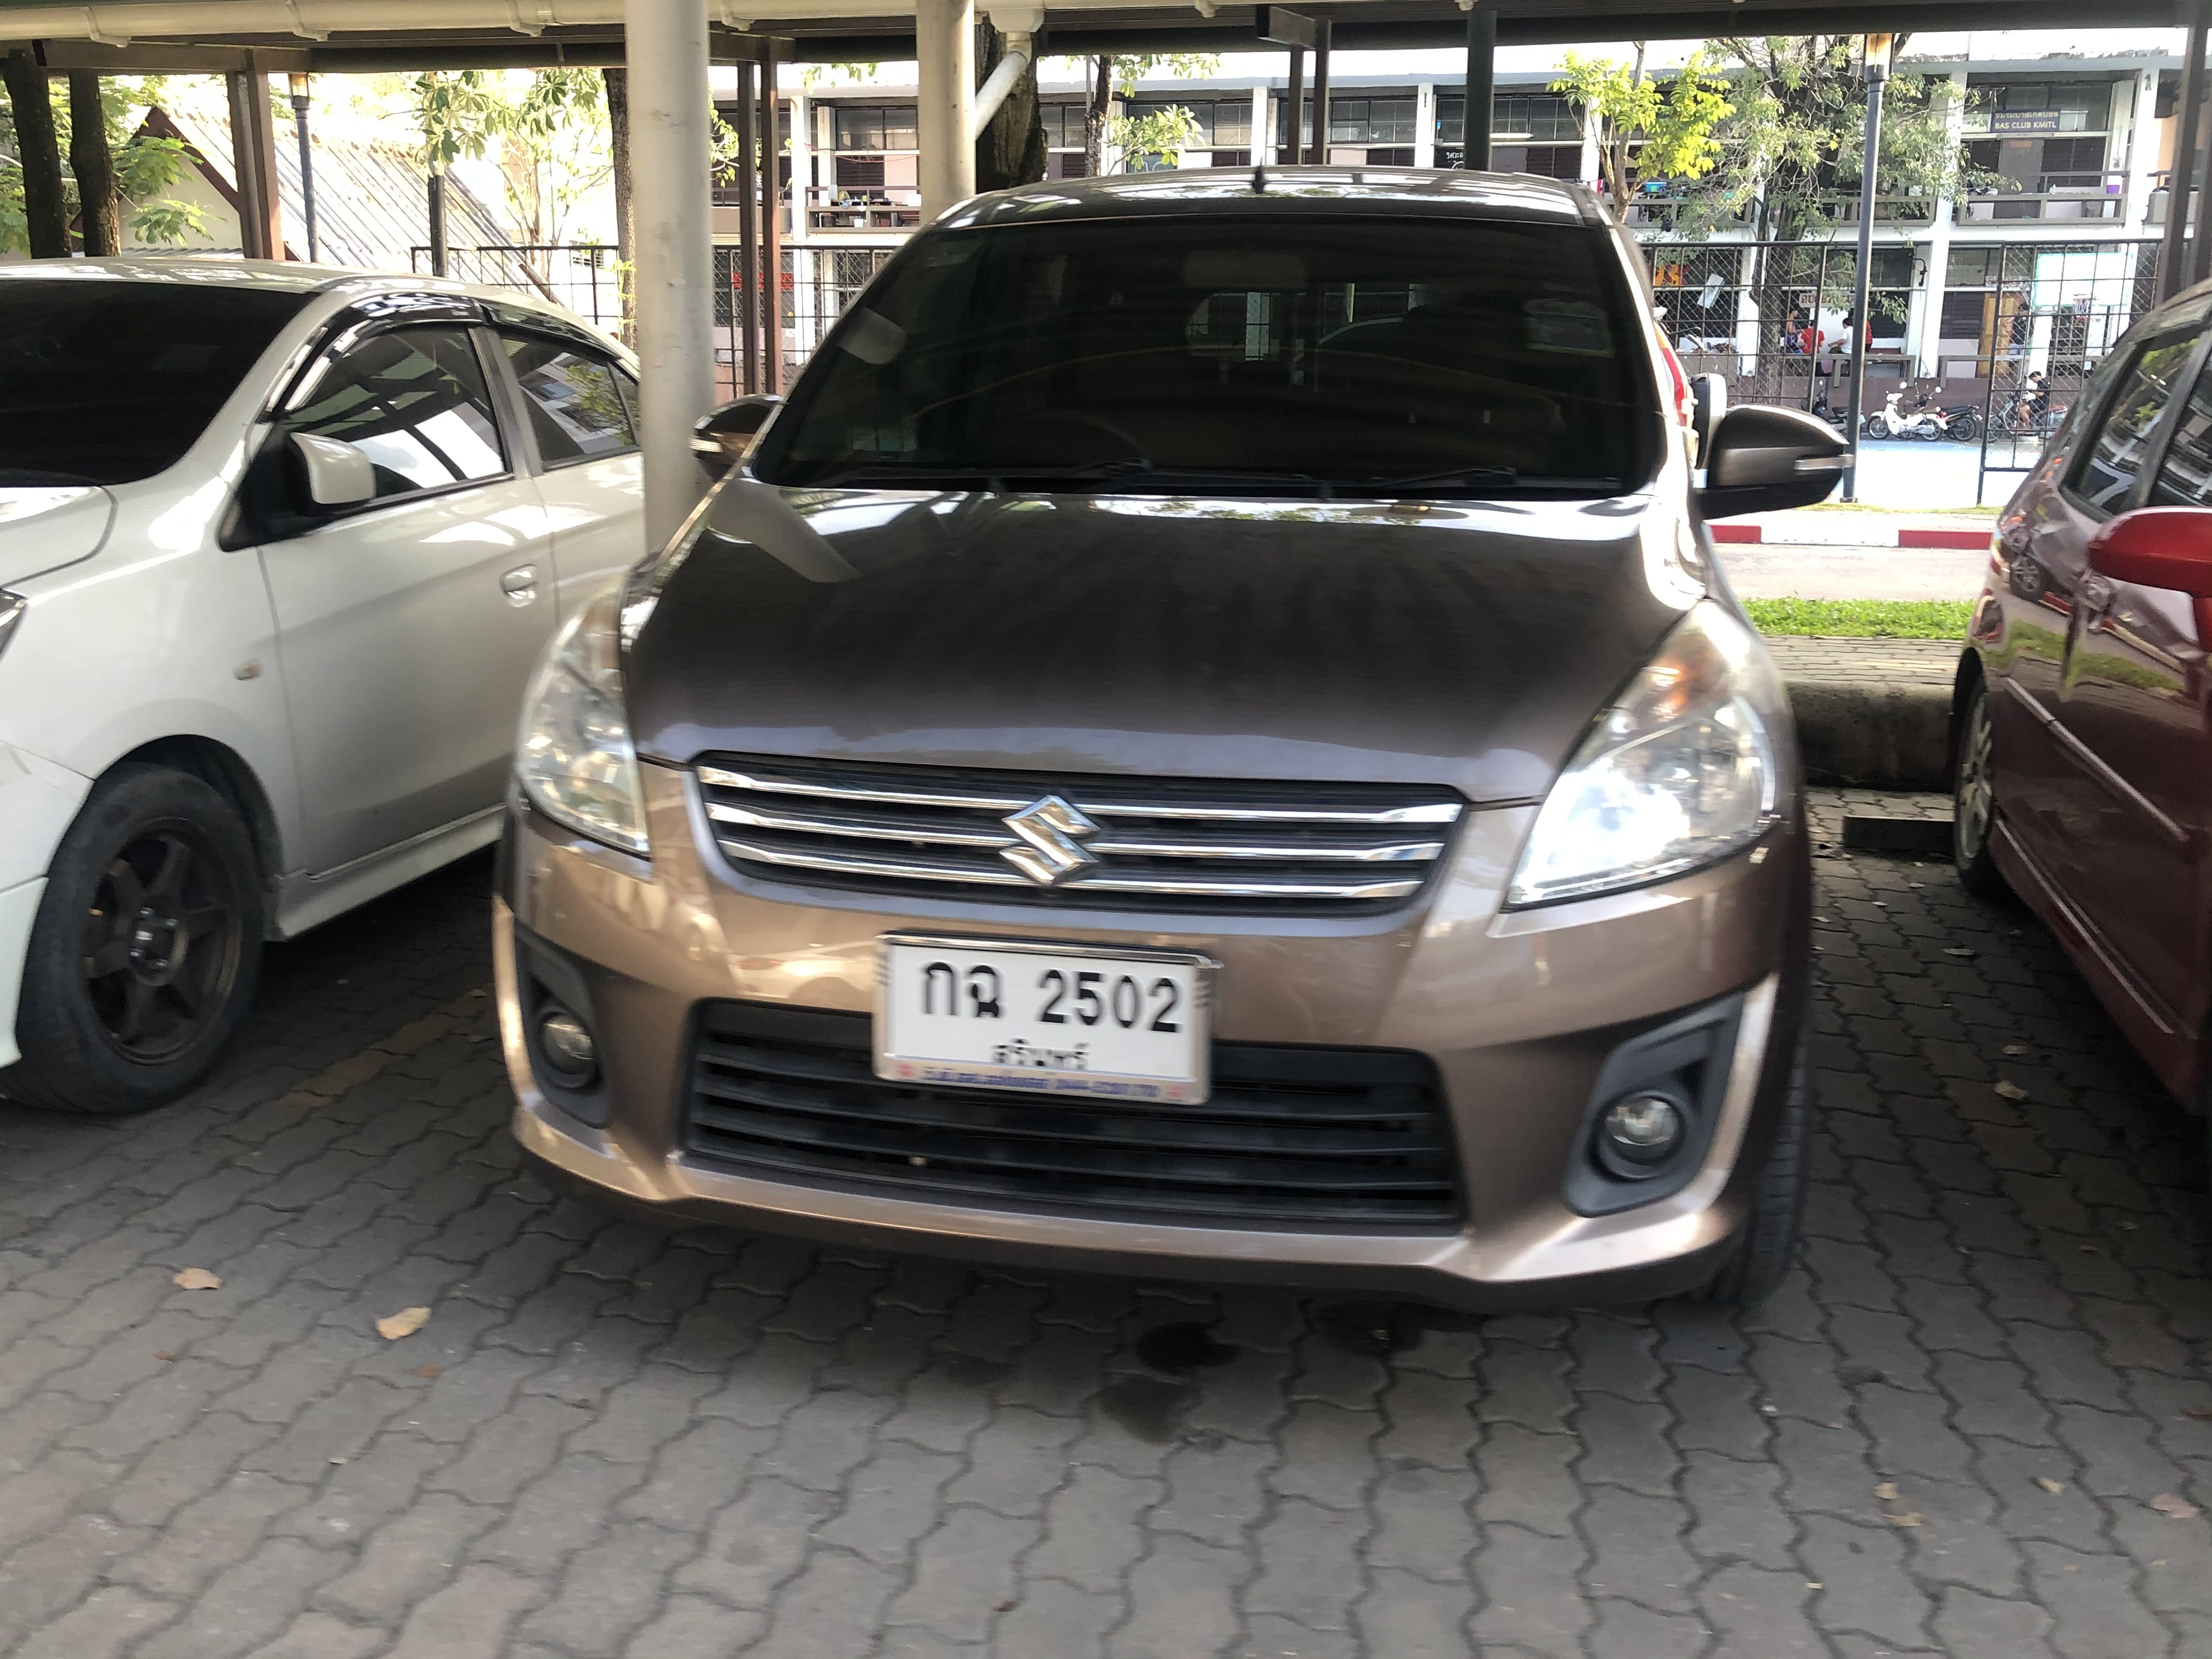in: (892, 948, 1200, 1080)
out: (873, 934, 1216, 1107)
